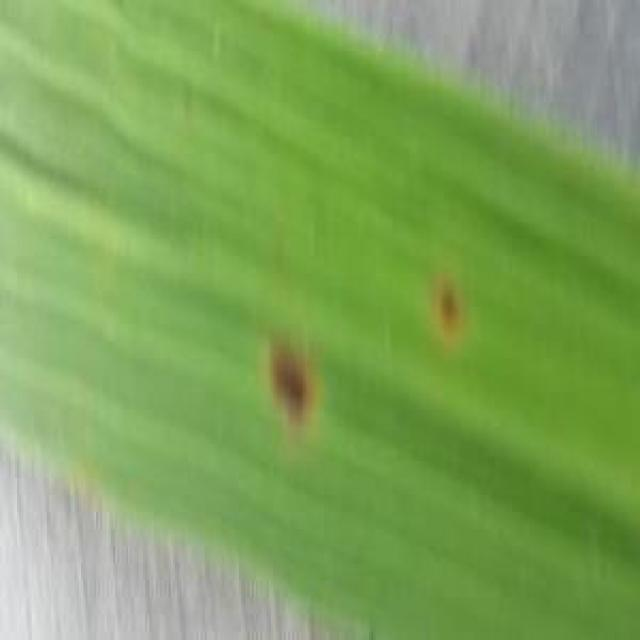brownspots: (245, 333, 337, 429), (424, 284, 470, 338)
